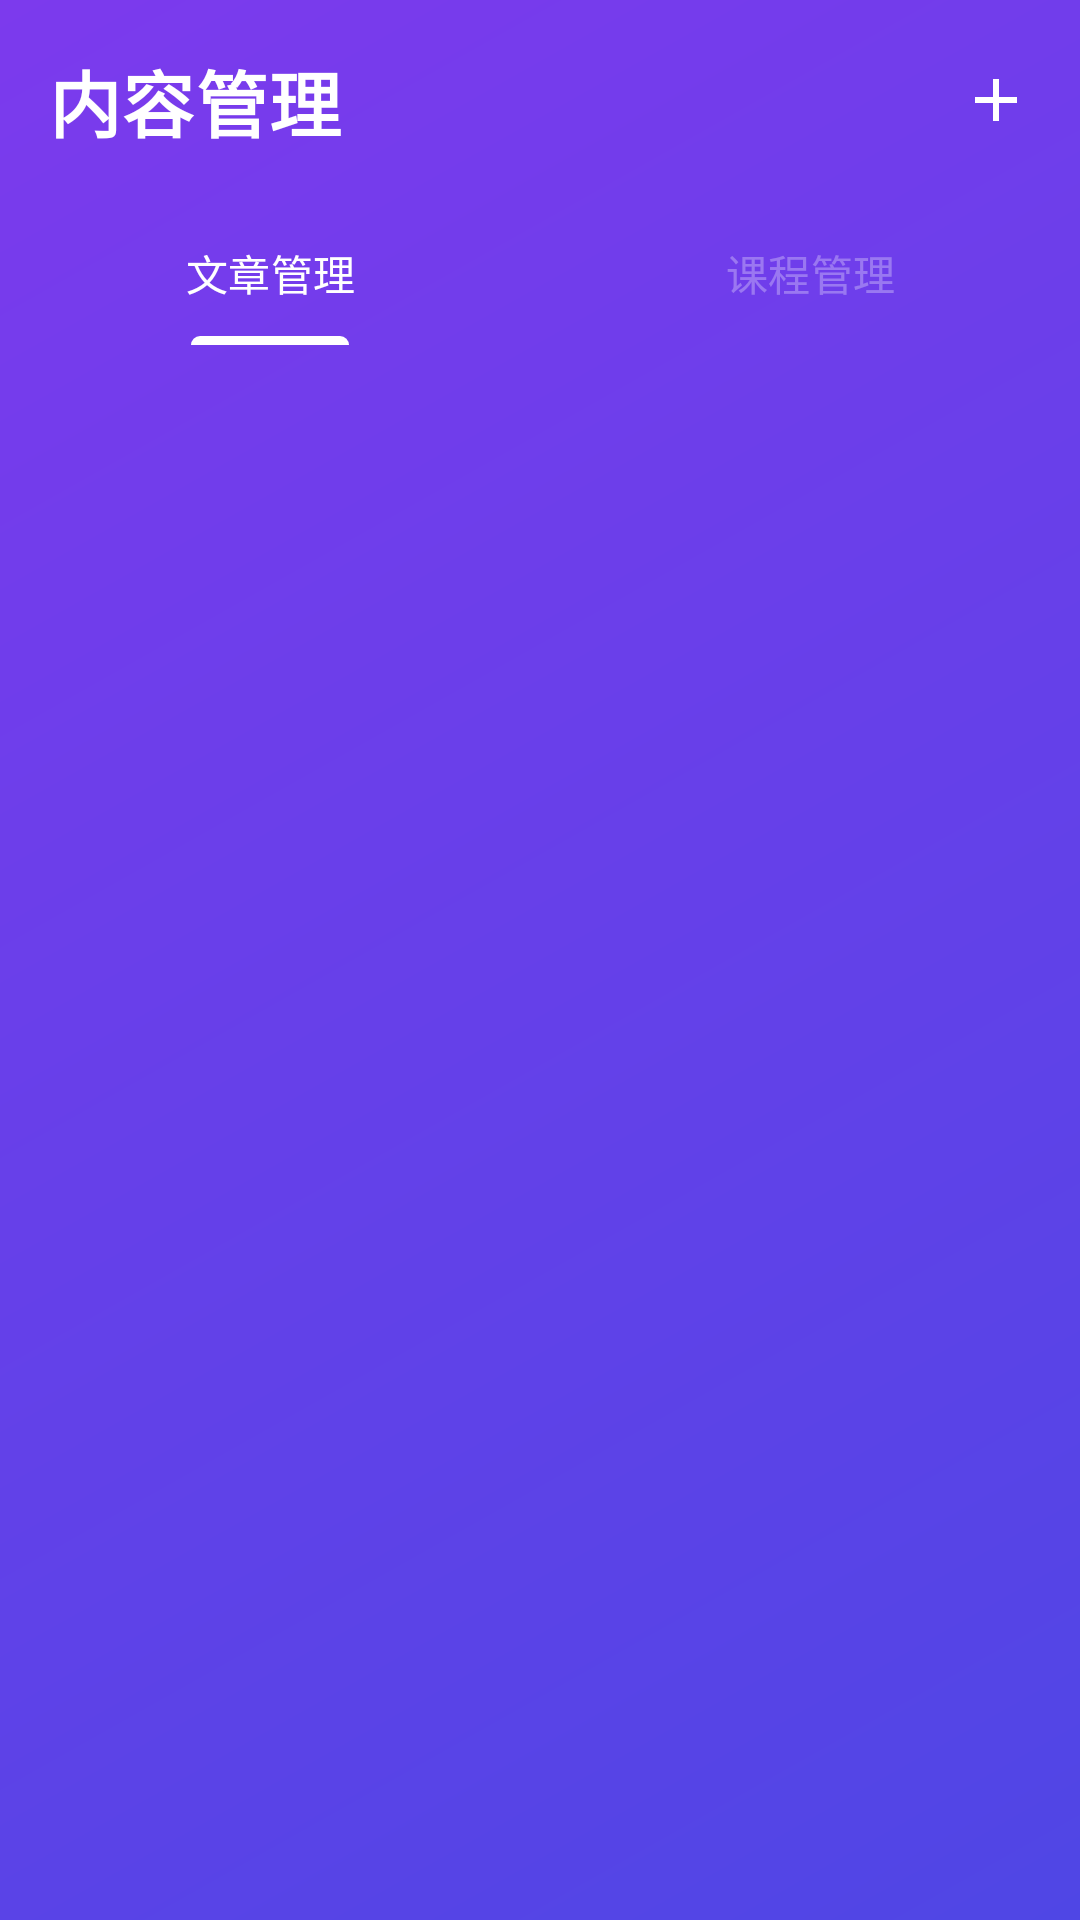

Icons on this 1080px x 1920px Android screen, each with the point to tap as (x,y):
add: (996,100)
